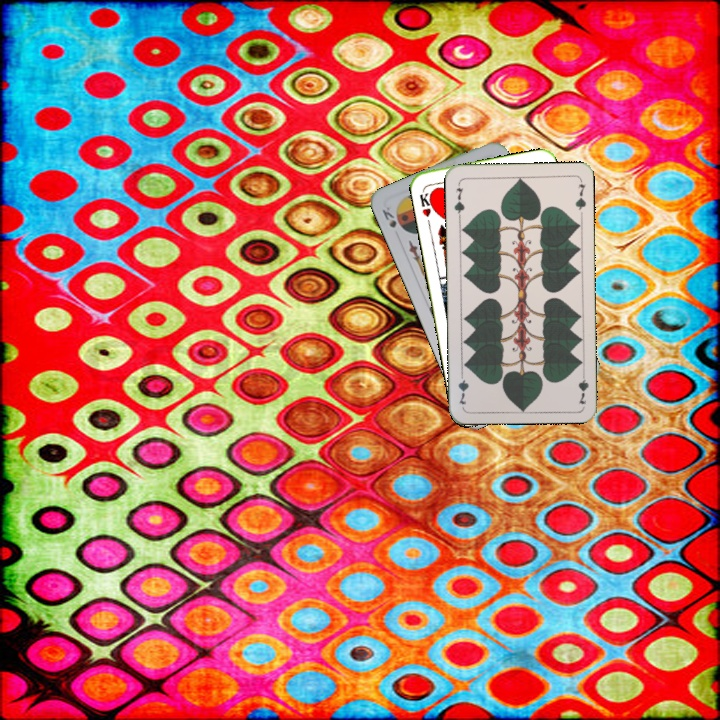G7: (450, 179, 467, 220), (574, 366, 591, 406)
HK: (415, 185, 438, 219)
SK: (378, 202, 399, 230)
